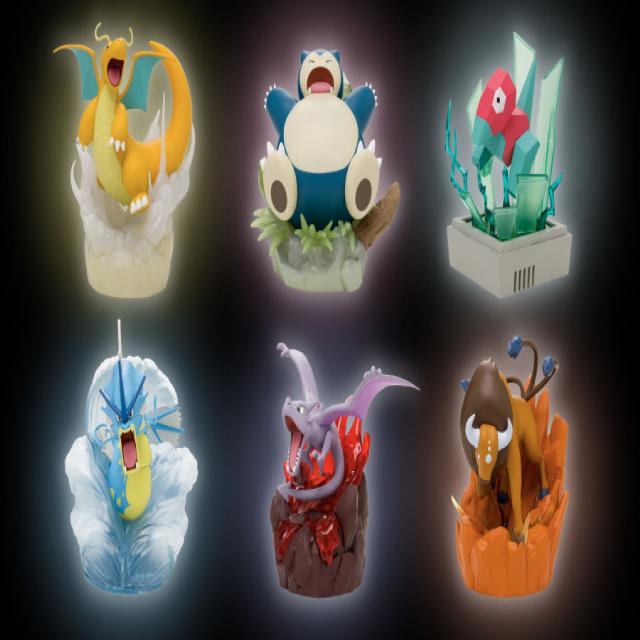Aerodactyl: (274, 372, 371, 482)
Dragonite: (78, 37, 163, 211)
Gyarados: (97, 355, 158, 521)
Porygon: (469, 59, 542, 193)
Snorlax: (270, 44, 374, 220)
Tauros: (463, 362, 547, 538)
